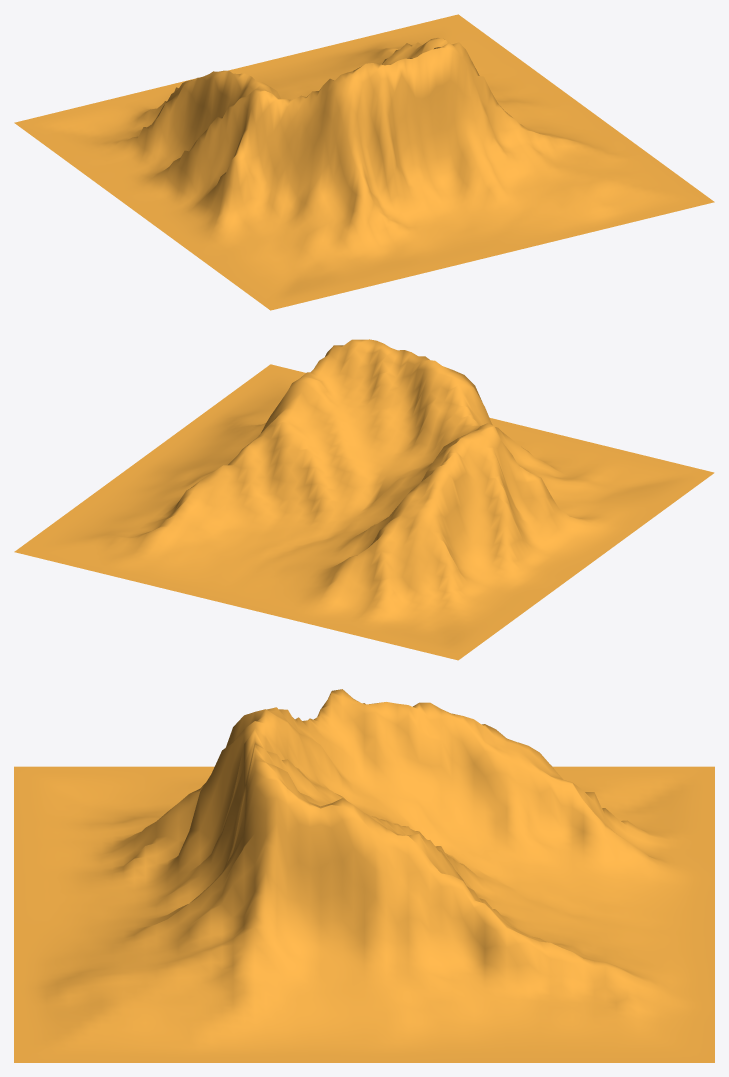
File: mountain1.fbx
3 renders of one model, top to bottom at view 1: azimuth 30°, elevation 25°; view 2: azimuth 150°, elevation 25°; view 3: azimuth 270°, elevation 25°, orthographic. The views are drawn at different scales.
Parts seen in each view (by area): view 1: mountain1; view 2: mountain1; view 3: mountain1.
Part boxes in pixels (box(x1,y1,x2,y2)): mountain1: box(14, 14, 714, 310); mountain1: box(14, 339, 714, 660); mountain1: box(14, 689, 714, 1062).
Size of the model in its own units: 2 by 0.6009 by 2.
